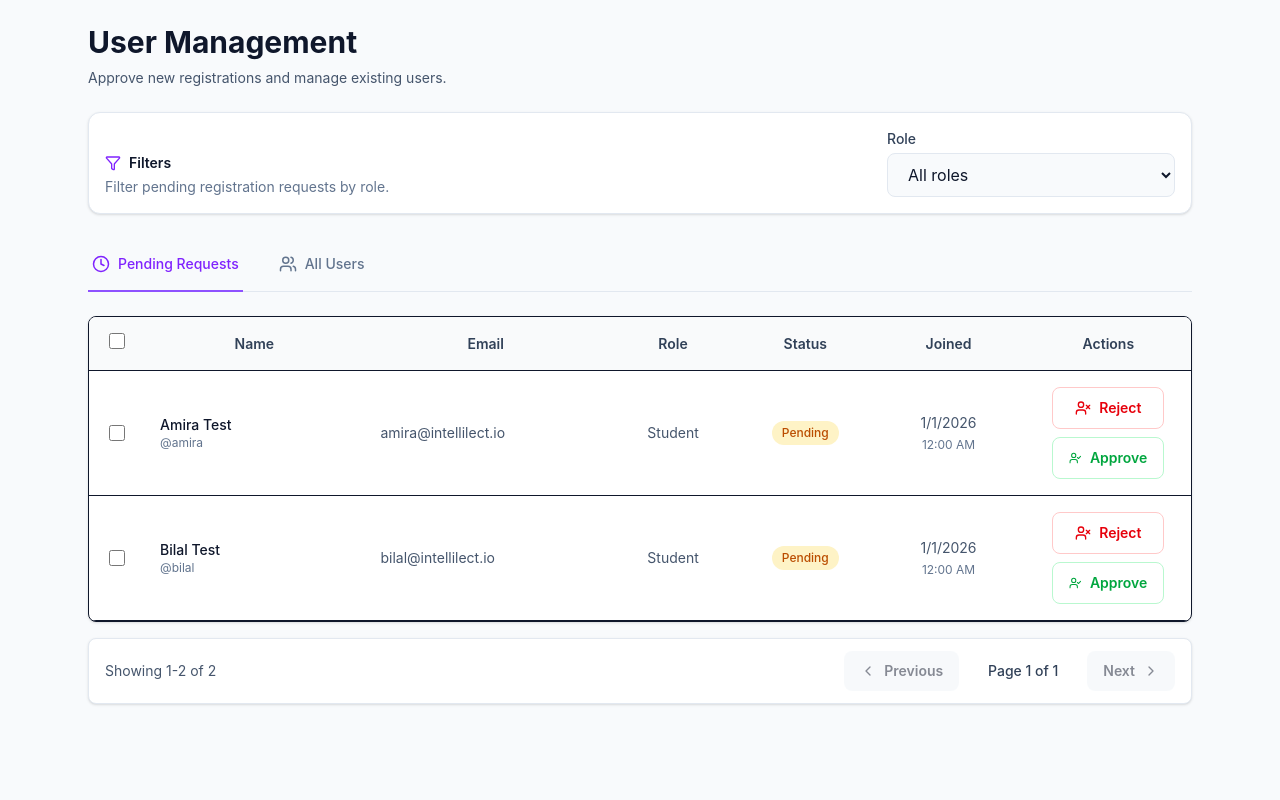
Scenario: AdminDashboard bulk selection › surfaces per-account failures instead of reporting success
Expected: the text "Amira Test" is shown, [160,416,232,433]
Click the checkbox named "Select all accounts on this page": (116,341) [108,333,124,349]
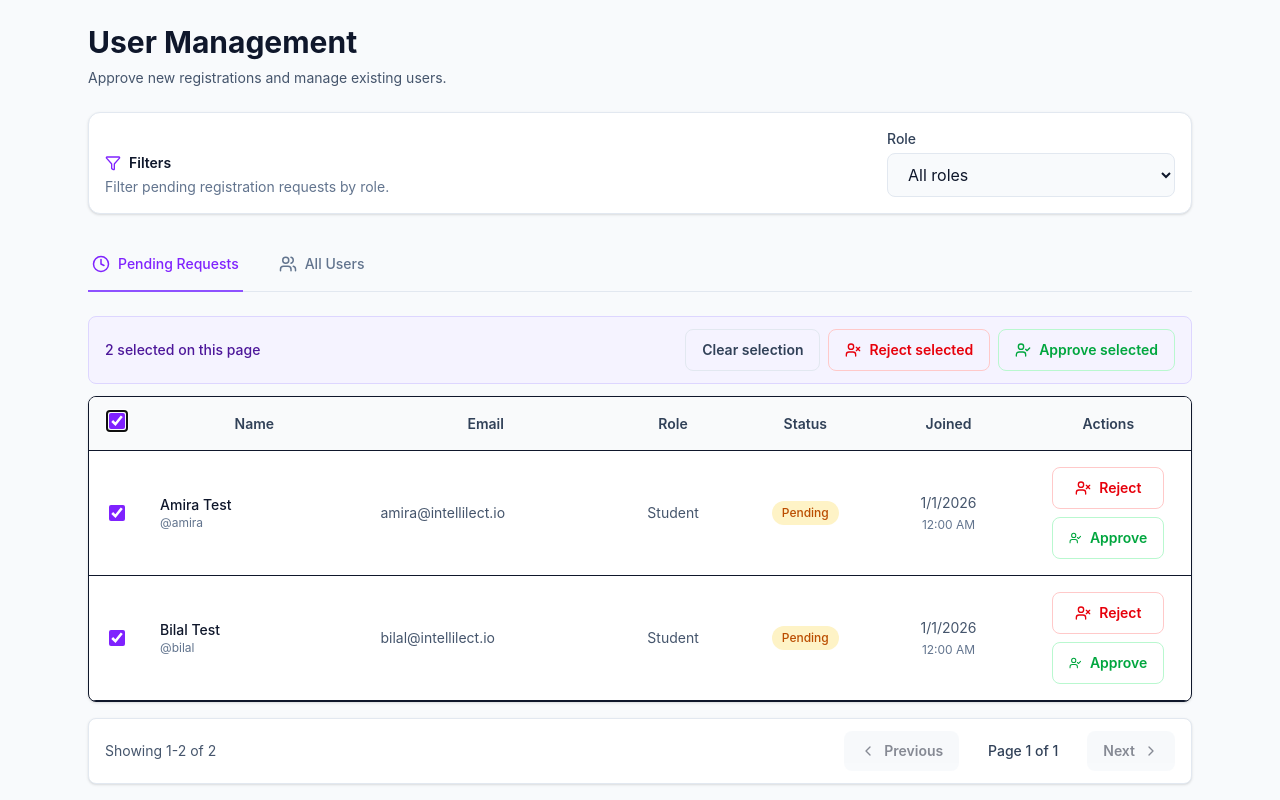
Click the button "Approve selected": (1087,350) [998,329,1175,371]
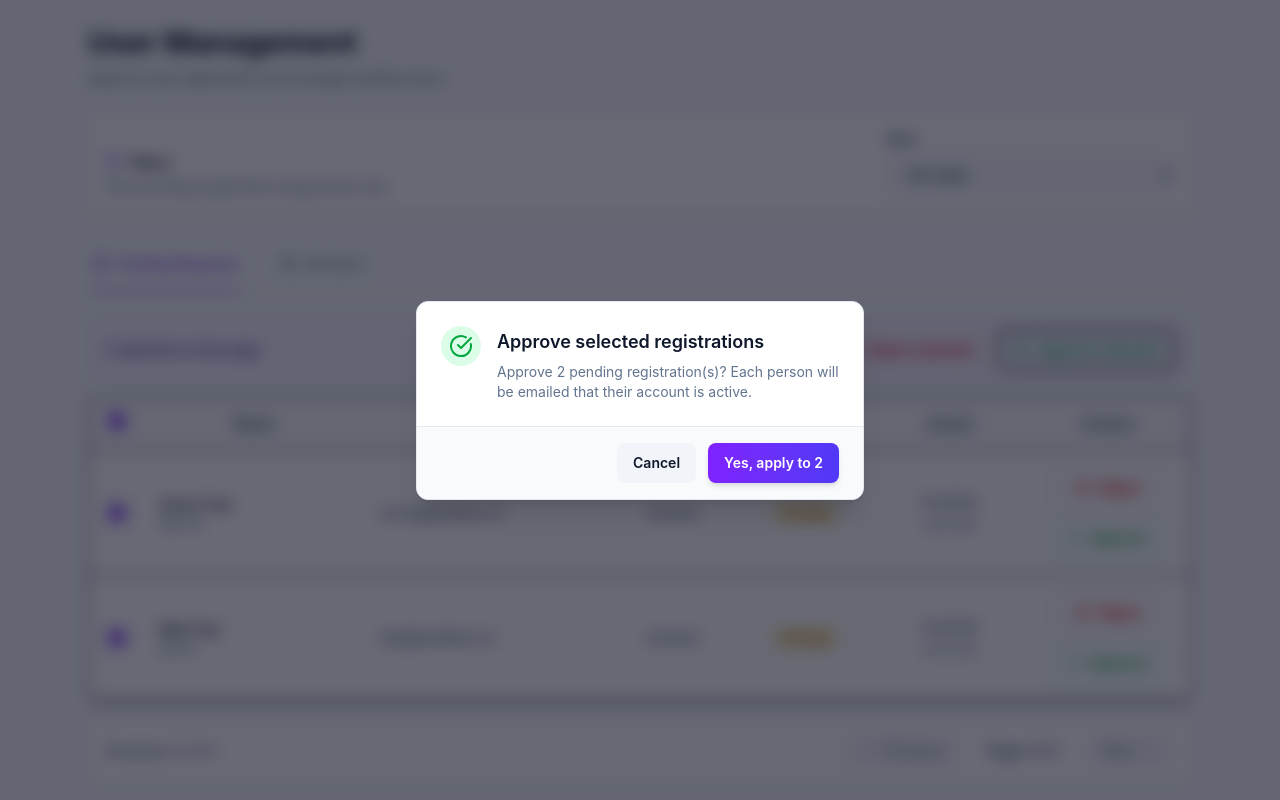
Click the button "Yes, apply to 2": (774,462) [708,442,839,482]
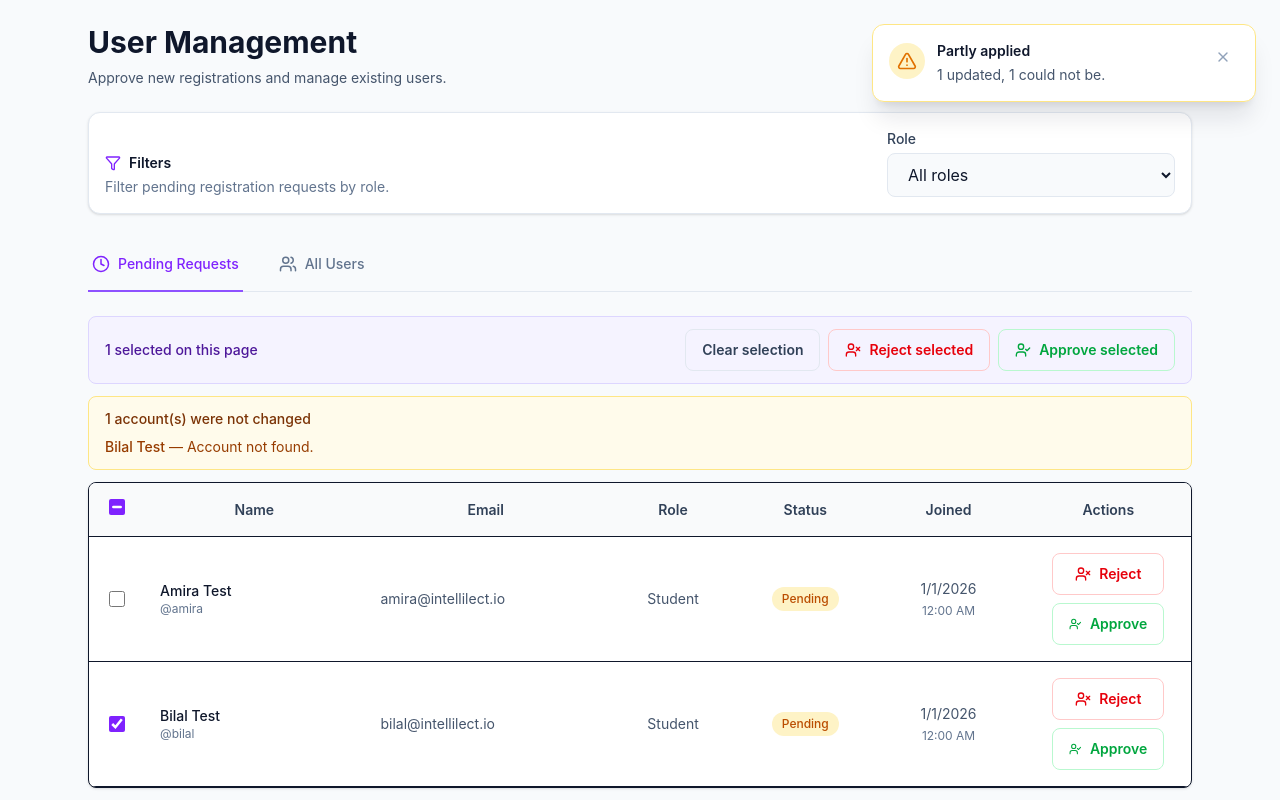
Expected: the text "1 account(s) were not changed" is shown, [105,410,311,427]
Expected: the list item "Bilal Test — Account not found." is shown, [105,438,314,455]
